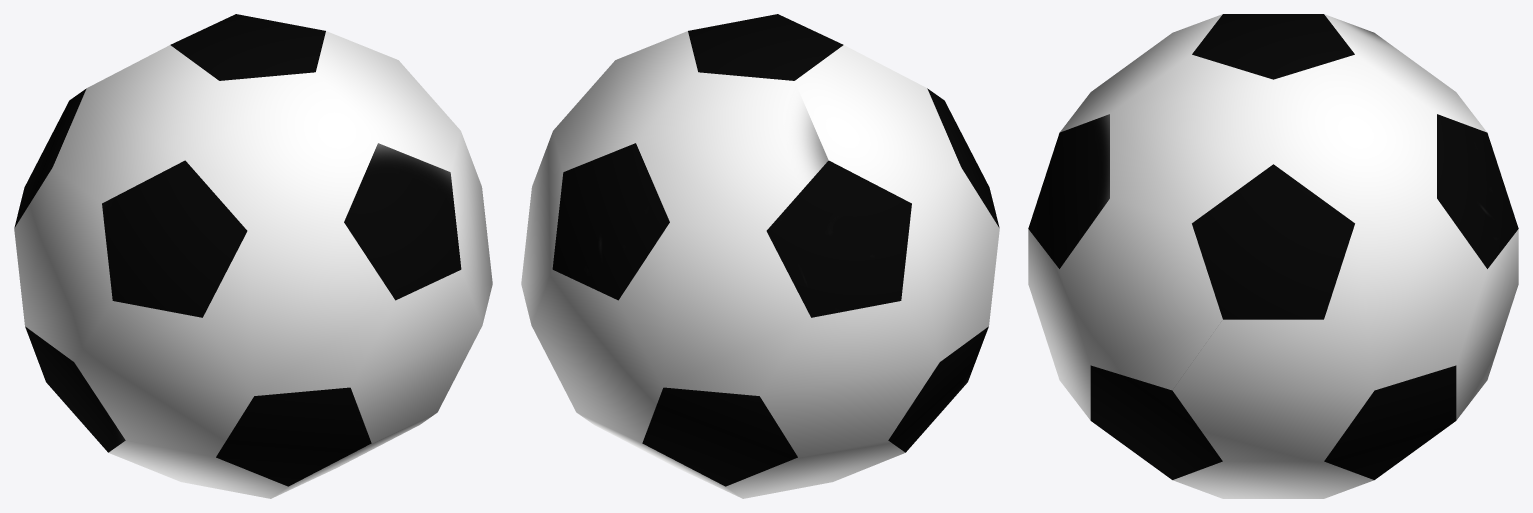
File: FoodBallMeshfbx.fbx
The picture shows the model from 3 angles, left to right: view 1: azimuth 30°, elevation 25°; view 2: azimuth 150°, elevation 25°; view 3: azimuth 270°, elevation 25°; orthographic projection. The views are drawn at different scales.
Parts seen in each view (by area): view 1: Icosphere; view 2: Icosphere; view 3: Icosphere.
Boxes of the visible parts, bbox=[...] form: Icosphere: bbox=[14, 14, 492, 498]; Icosphere: bbox=[521, 14, 999, 498]; Icosphere: bbox=[1028, 14, 1518, 498].
Bounding box in the file's own units: 167 × 163 × 170.
1 material, 1 textured.
